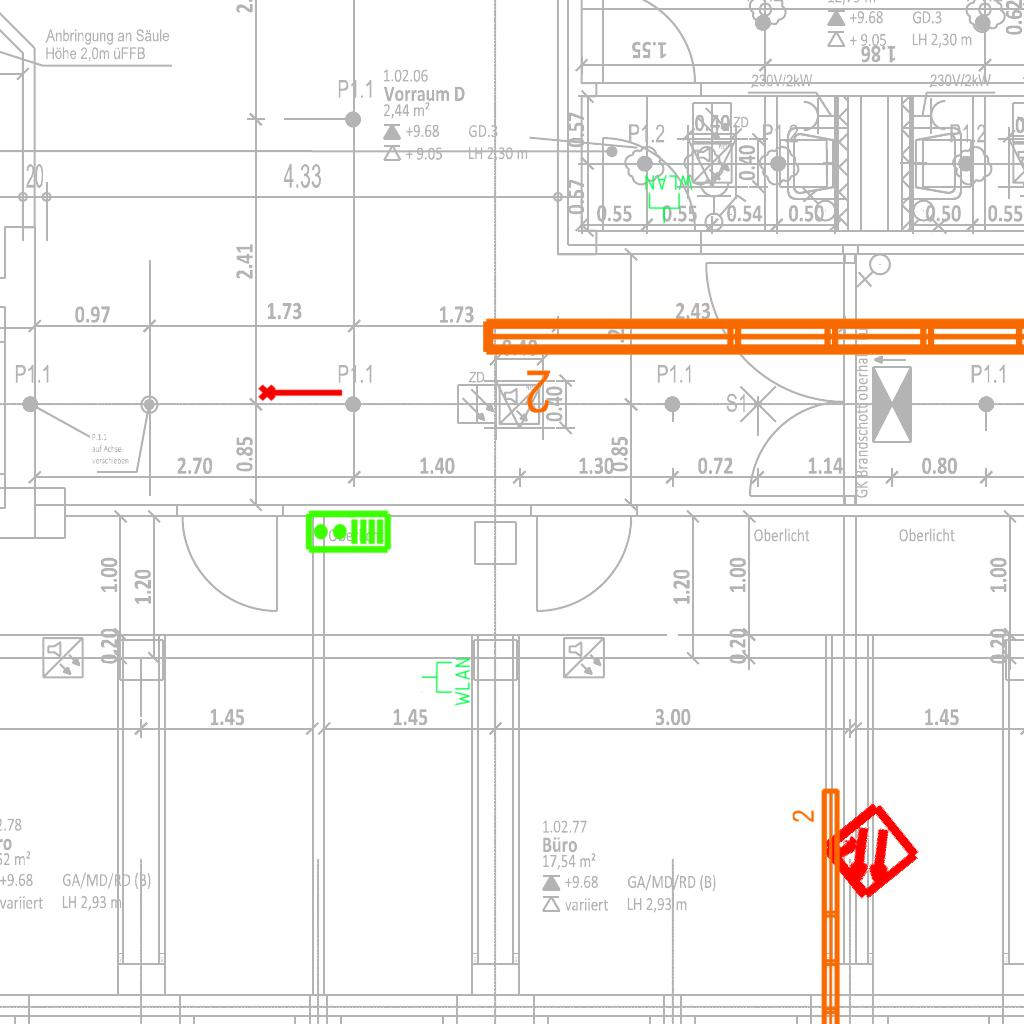ASR_Ansaugoeffnung: (257, 380, 345, 403)
Ambulanz_Pendelleuchte_LED: (474, 306, 1024, 418), (790, 784, 846, 1024)
Gegensprechanlage_mit_Video: (304, 509, 392, 556)
OT_Multisensormelder_(Kombination_RMO_WMD): (789, 773, 948, 932)
WLAN: (420, 656, 472, 708), (643, 173, 695, 225)
